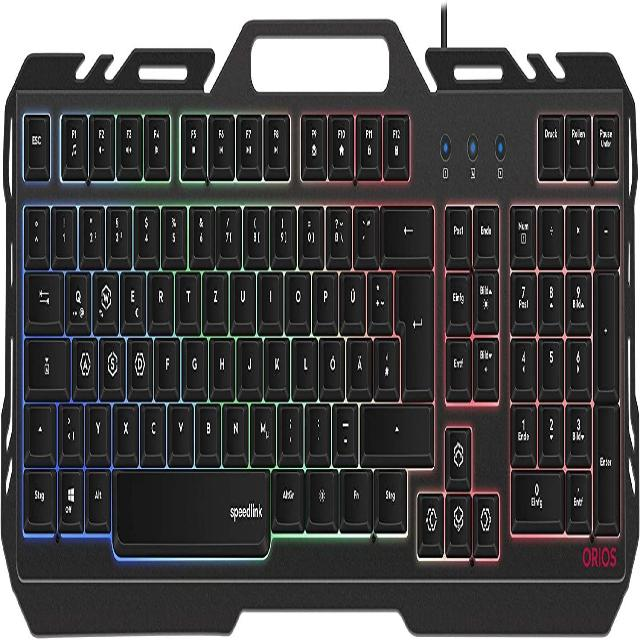0: (298, 200, 321, 257)
1: (52, 201, 73, 254)
2: (79, 201, 101, 256)
3: (106, 201, 128, 257)
4: (134, 201, 156, 256)
5: (162, 200, 184, 256)
6: (189, 201, 211, 256)
7: (216, 201, 238, 256)
8: (243, 200, 266, 258)
9: (271, 200, 293, 257)
a: (72, 332, 94, 389)
accent: (354, 201, 375, 255)
ae: (346, 331, 368, 387)
alt-left: (85, 465, 108, 523)
altgr-right: (272, 464, 300, 522)
b: (195, 397, 217, 453)
c: (141, 397, 163, 453)
caret: (24, 202, 45, 255)
comma: (277, 397, 299, 452)
d: (127, 331, 150, 389)
del: (381, 202, 429, 255)
e: (120, 265, 143, 324)
enter: (393, 264, 430, 388)
f: (156, 332, 176, 385)
g: (182, 332, 203, 387)
h: (209, 331, 231, 386)
hash: (374, 332, 395, 386)
i: (258, 267, 279, 320)
j: (237, 332, 258, 386)
k: (264, 331, 286, 386)
keyboard: (4, 70, 632, 595)
l: (292, 331, 313, 386)
less: (58, 397, 79, 452)
m: (250, 396, 273, 453)
minus: (332, 397, 355, 454)
n: (223, 397, 245, 452)
o: (285, 265, 307, 321)
oe: (319, 332, 341, 387)
p: (312, 265, 334, 321)
plus: (367, 265, 388, 322)
point: (306, 397, 327, 452)
q: (64, 265, 88, 326)
r: (148, 266, 169, 321)
s: (99, 332, 122, 390)
shift-left: (26, 400, 51, 452)
shift-lock: (24, 335, 67, 389)
shift-right: (358, 397, 430, 454)
space: (112, 462, 266, 549)
ss: (326, 201, 348, 257)
strg-left: (23, 464, 53, 524)
strg-right: (373, 463, 404, 523)
t: (176, 267, 197, 320)
tab: (24, 267, 60, 322)
u: (230, 266, 251, 321)
ue: (340, 265, 362, 322)
v: (168, 396, 190, 452)
w: (92, 265, 116, 325)
x: (113, 397, 135, 452)
y: (86, 399, 107, 452)
z: (203, 266, 224, 321)
